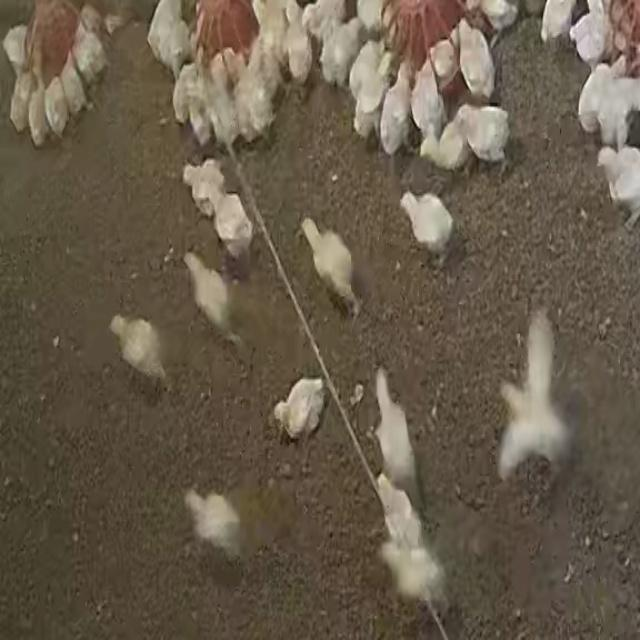chicken: (496, 309, 572, 482), (366, 370, 423, 474), (296, 217, 359, 311), (270, 365, 330, 439), (377, 544, 451, 602), (349, 41, 389, 142), (188, 488, 244, 558), (113, 311, 166, 384), (183, 250, 233, 326), (234, 48, 272, 144), (372, 474, 422, 546), (408, 57, 444, 156), (457, 103, 511, 168), (318, 11, 363, 88), (598, 146, 640, 227), (214, 190, 254, 273), (401, 188, 452, 252), (457, 19, 495, 104), (420, 116, 471, 176), (69, 13, 109, 89), (378, 70, 412, 156), (182, 157, 227, 219), (568, 2, 608, 66), (300, 1, 352, 48), (211, 59, 237, 146), (285, 11, 315, 86), (6, 65, 33, 135), (172, 62, 198, 134), (2, 23, 30, 81), (187, 89, 214, 149), (44, 77, 71, 137), (352, 0, 386, 40), (272, 400, 290, 434)
